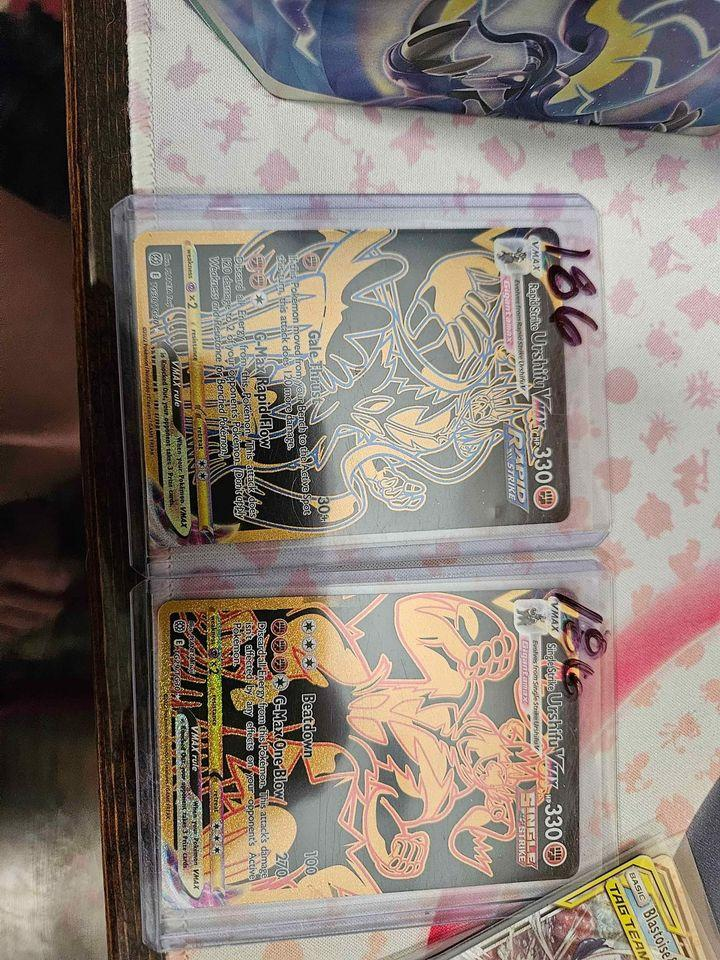card: (134, 226, 572, 548), (158, 586, 582, 910), (425, 853, 703, 960)
